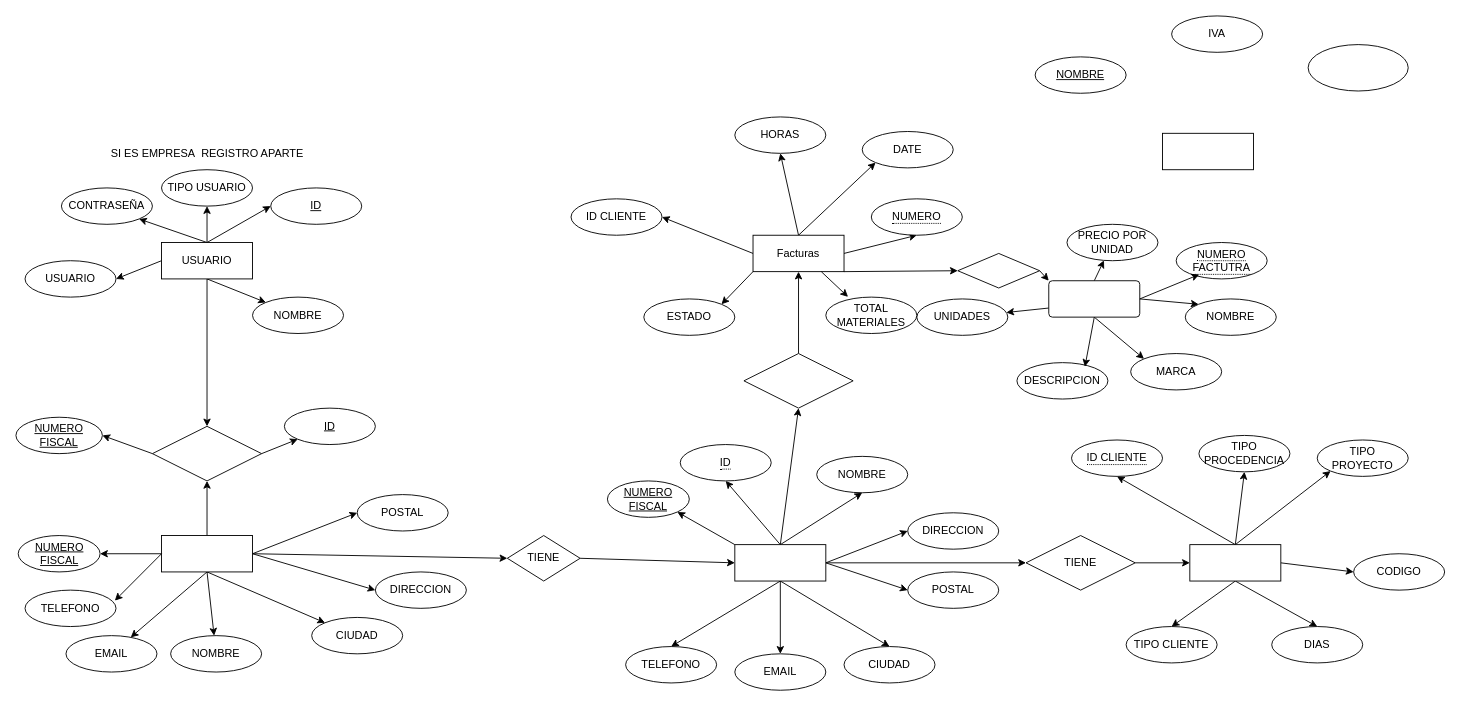
Image size: 1461x706. Some labels were removed from this diagram. Each missing label, with the centre of its shape:
CLIENTE: the point at 780,562
CONTIENE: the point at 998,270
EMPRESA: the point at 207,553
MATERIALES: the point at 1094,298
METER INFO: the point at 1235,562
PARAMETROS FACTURA: the point at 1208,151
PERTENECE: the point at 207,453
PRECIO POR HORA: the point at 1357,67
recibe: the point at 798,380
